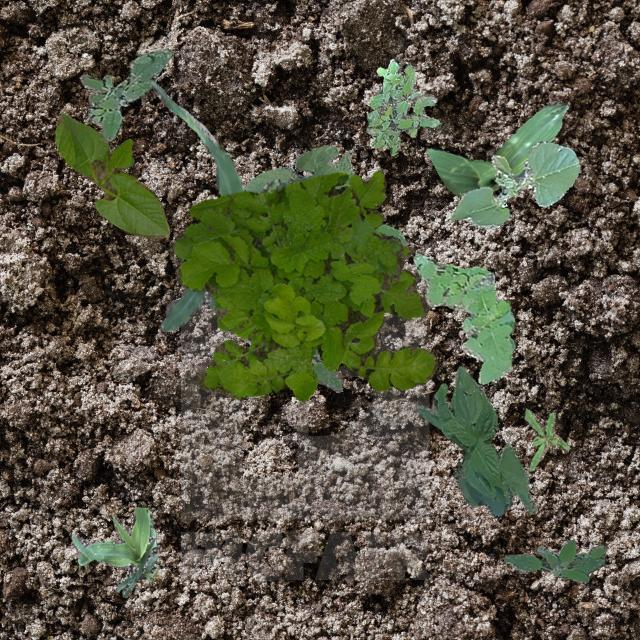crop: (150, 80, 280, 330), (416, 364, 536, 516), (54, 111, 168, 238), (426, 100, 568, 196), (444, 140, 578, 228), (70, 506, 156, 596), (242, 144, 352, 192)
weed: (172, 172, 436, 400), (213, 170, 414, 330), (244, 222, 406, 344), (412, 254, 514, 384), (78, 48, 172, 140), (366, 58, 440, 154), (502, 538, 606, 582), (524, 408, 570, 470), (310, 348, 342, 392)
